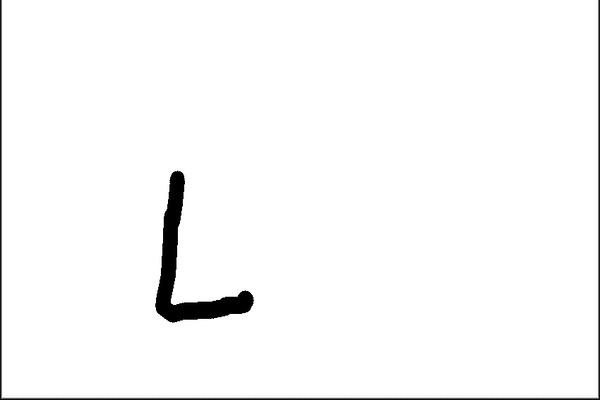L: (148, 165, 262, 326)
